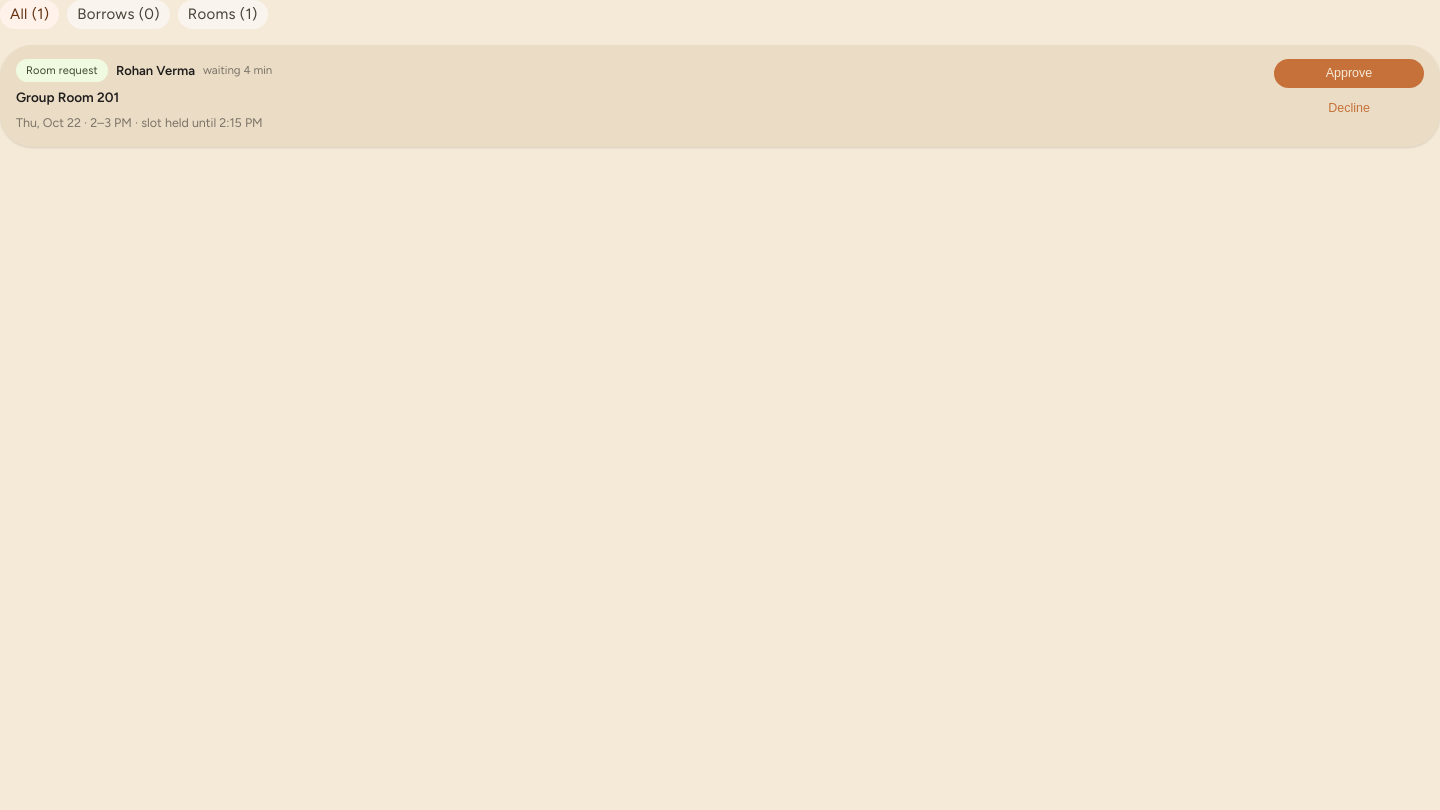
it: Requests page › declines with an optional reason the student will see
The width and height of the screenshot is (1440, 810).
Click the button "Decline" at [1349, 109], box [1274,94,1424,123]
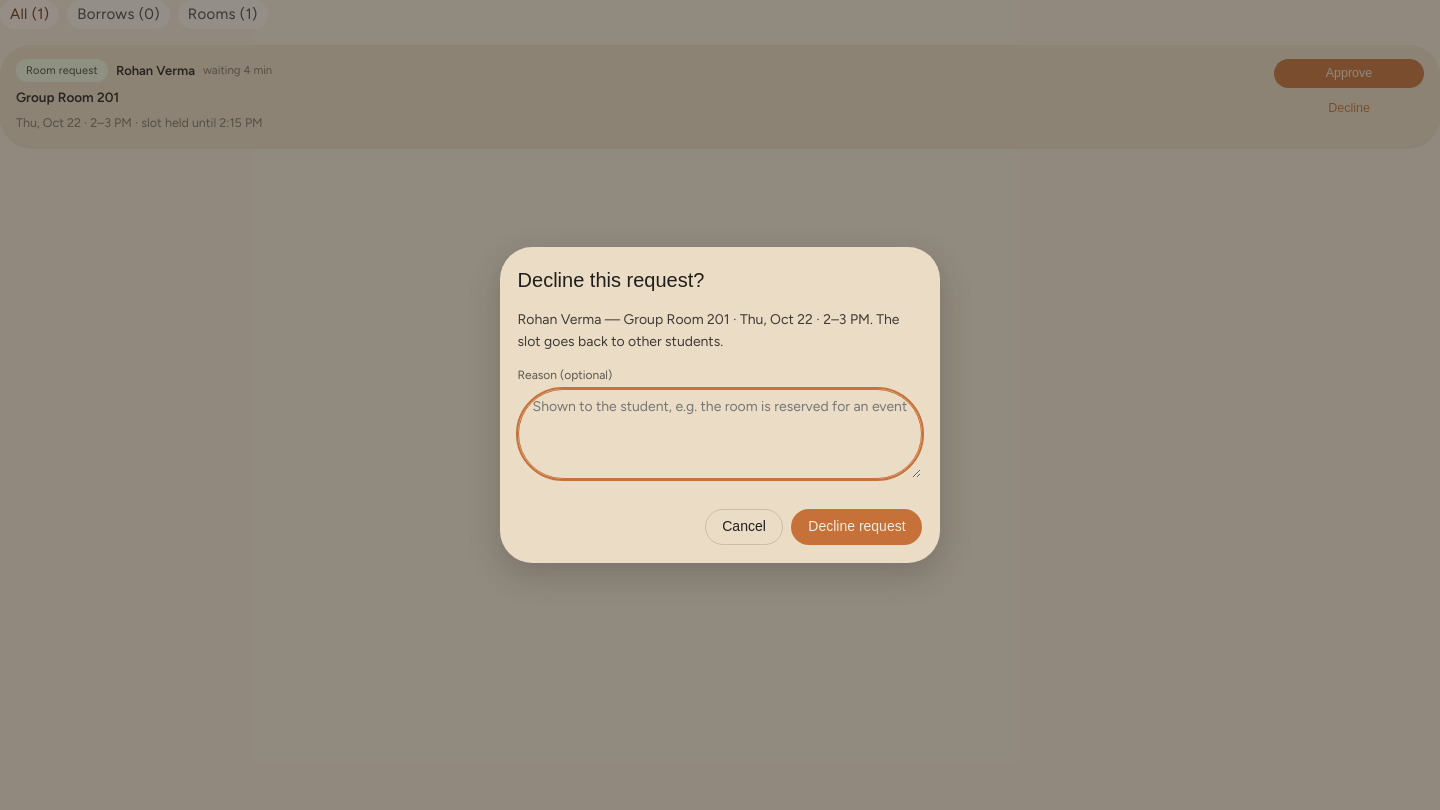
Check: the text "Rohan Verma — Group Room 201 · Thu, Oct 22 · 2–3 PM. The slot goes back to other students." is shown, box [518,311,900,350]
Type "Reserved for an event" into the text box labelled "Reason (optional)" at [720, 434], box [518,389,922,479]
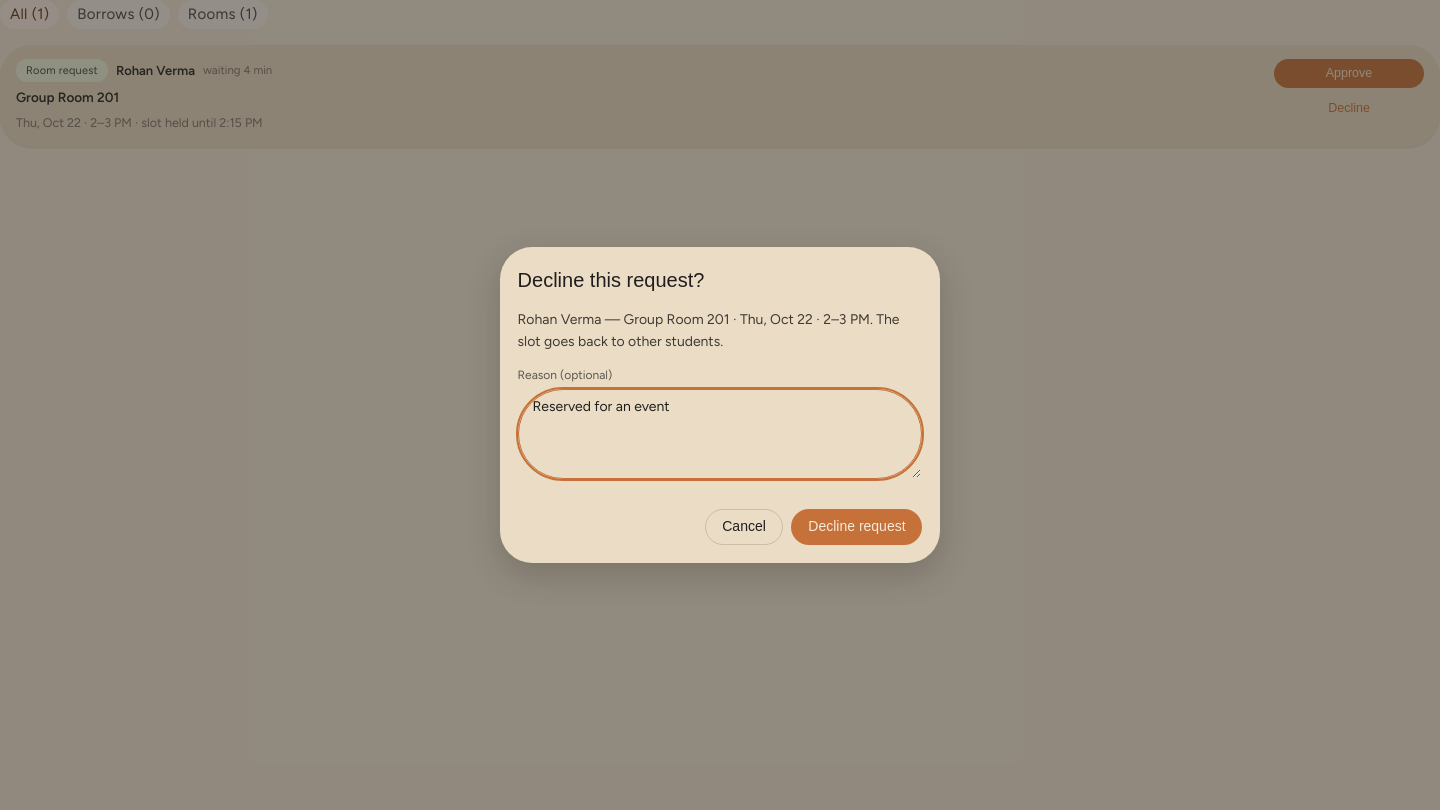
Click the button "Decline request" at [857, 527], box [792,509,922,545]
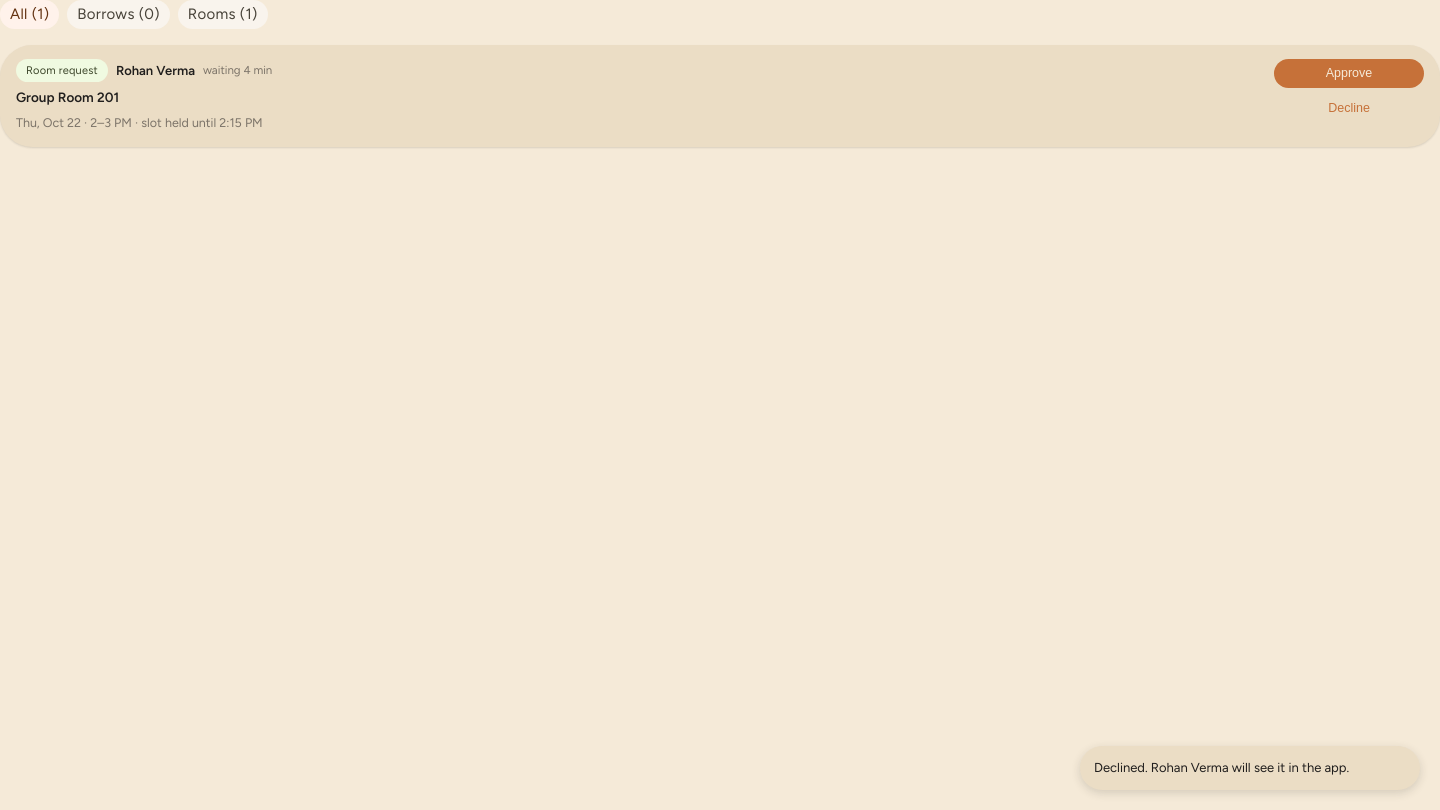
Check: the text "Declined. Rohan Verma will see it in the app." is shown, box [1094,760,1349,775]
Check: the dialog is gone
